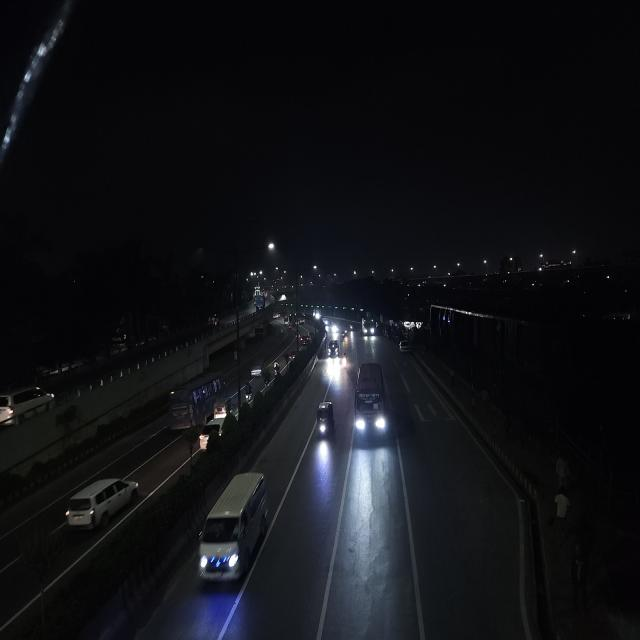bus: (167, 369, 227, 428), (353, 358, 387, 444), (362, 316, 377, 338)
car: (196, 468, 270, 592), (61, 472, 140, 535), (0, 381, 56, 429), (198, 412, 240, 452), (397, 337, 411, 355), (328, 338, 339, 358)
cng: (314, 397, 336, 448), (214, 396, 232, 418)
motorcycle: (243, 380, 254, 408), (272, 358, 282, 378), (341, 351, 349, 370)
pickup_van: (249, 358, 266, 378)
truck: (253, 294, 264, 309)
